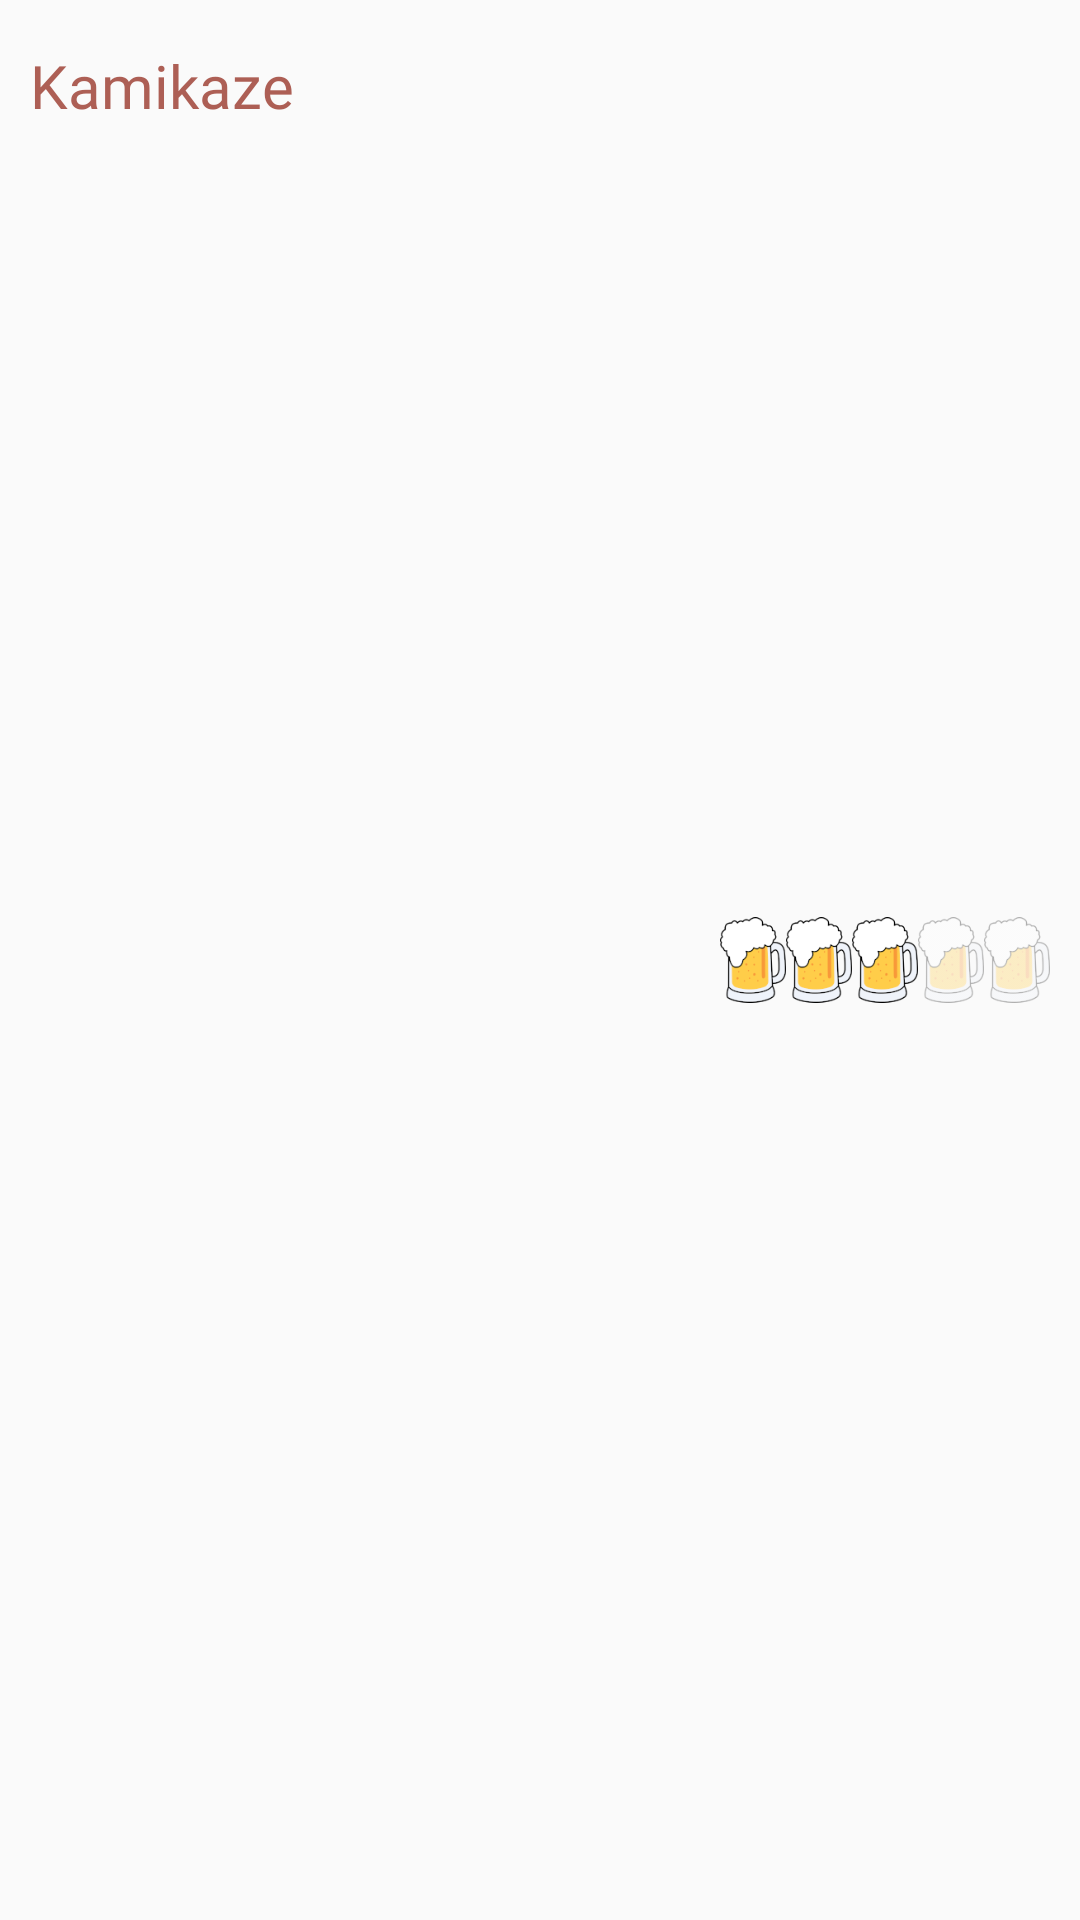

Where to tap for icons on this 1080px×1920px app screen, as (x,y):
beer: (885,960)
